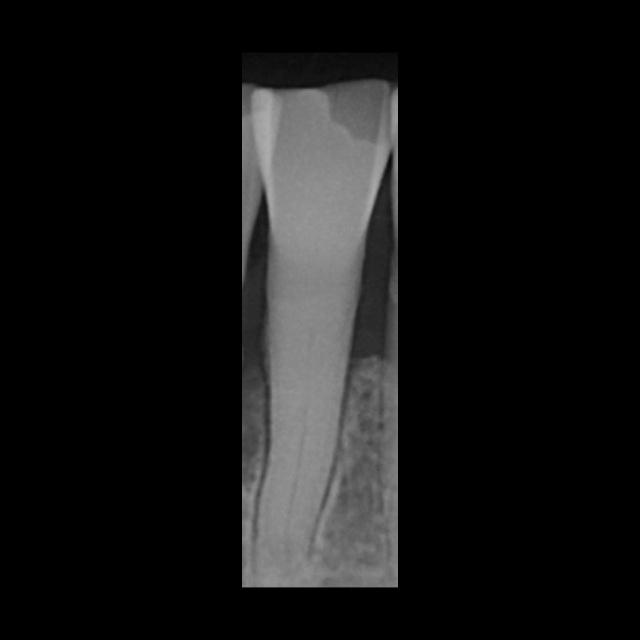tooth: (251, 77, 392, 576)
